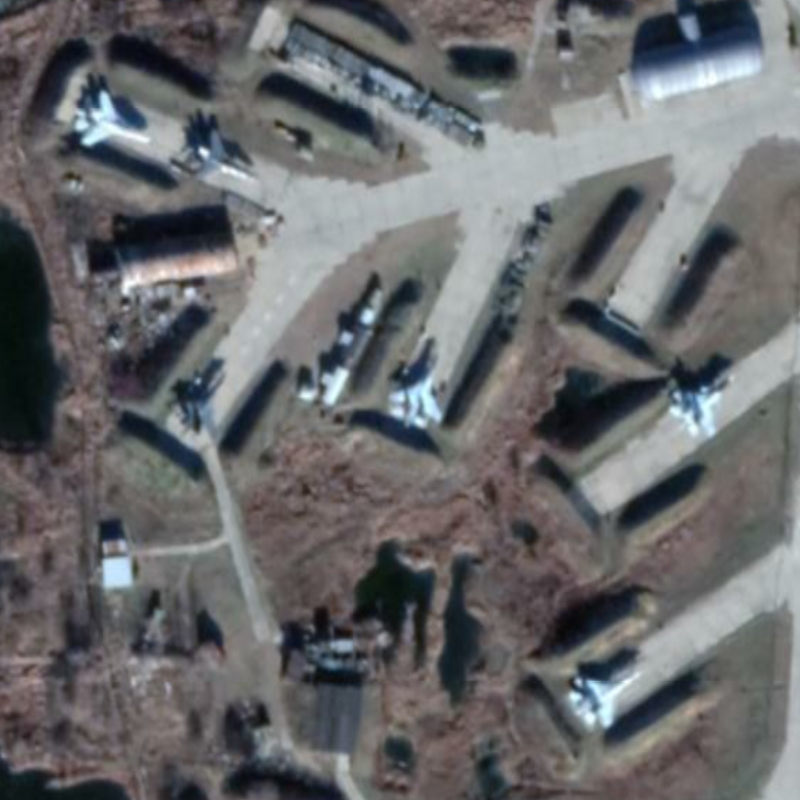A1: (71, 87, 154, 149), (566, 668, 646, 730), (170, 369, 231, 445), (387, 353, 444, 431), (189, 127, 263, 185)
A19: (665, 372, 738, 441)
